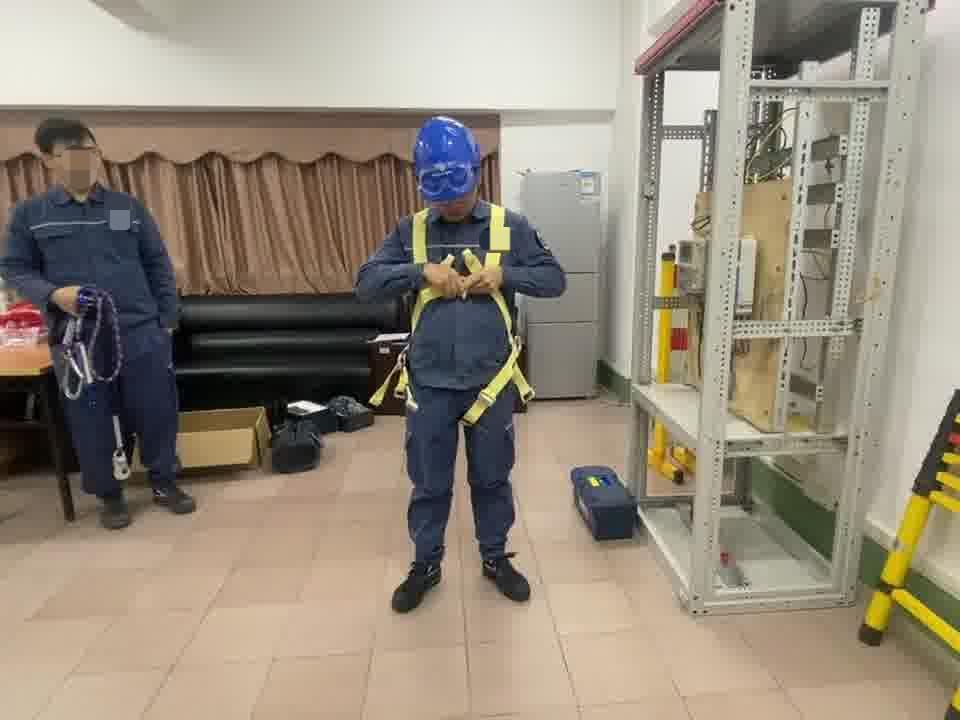halt: (415, 119, 487, 215)
unhalt: (37, 117, 107, 195)
